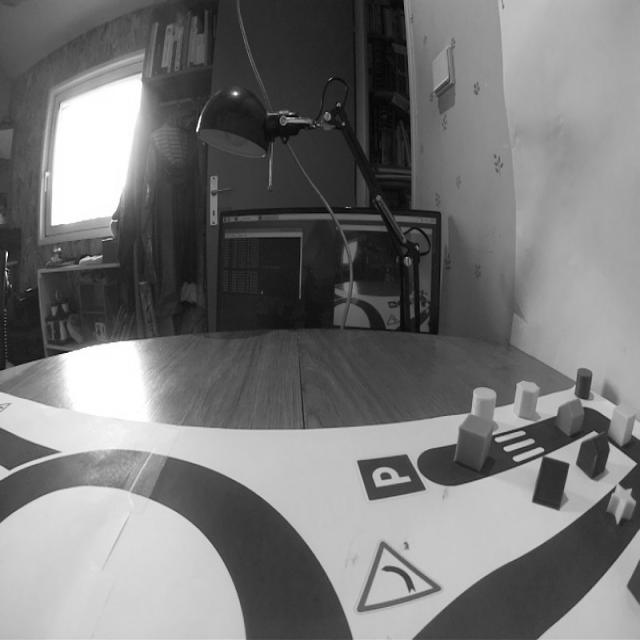cube: (454, 410, 500, 475), (607, 400, 637, 450)
cylinder: (470, 381, 498, 424), (575, 363, 594, 402)
hexagon: (514, 376, 541, 423)
home: (575, 429, 612, 483), (554, 395, 588, 438)
laneLeftTurn: (183, 454, 357, 640)
star: (602, 479, 637, 528)
triangle: (533, 455, 572, 515)
